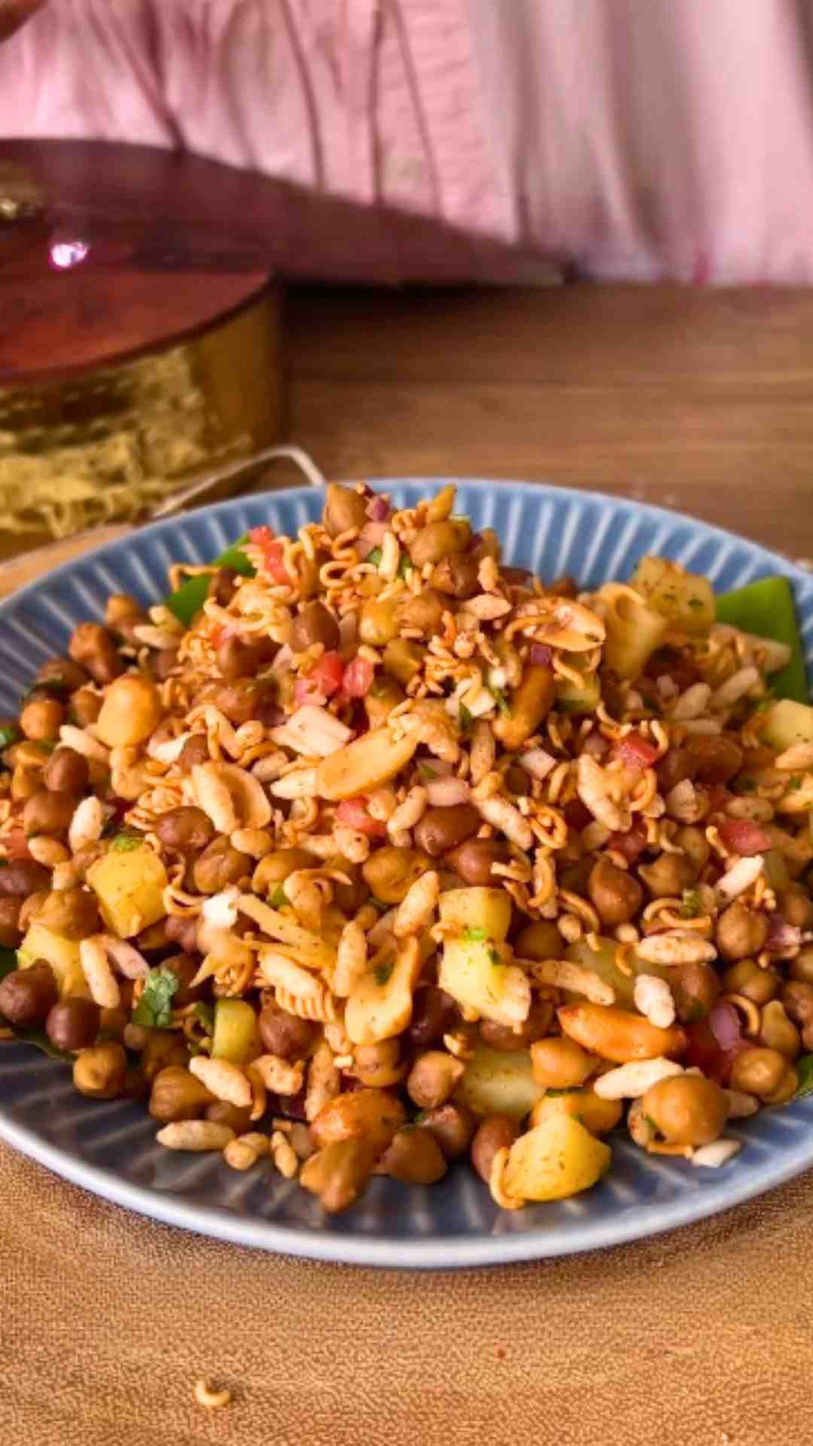chatpate: (49, 557, 787, 1164)
